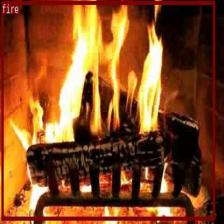fire: (2, 0, 214, 219)
